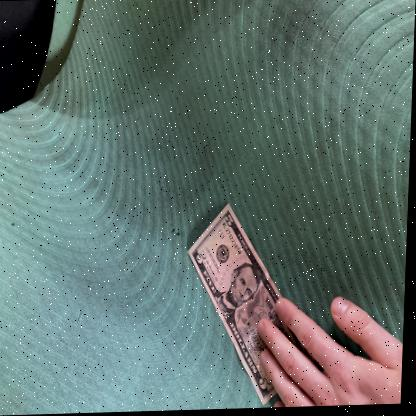five-front: (187, 202, 306, 405)
